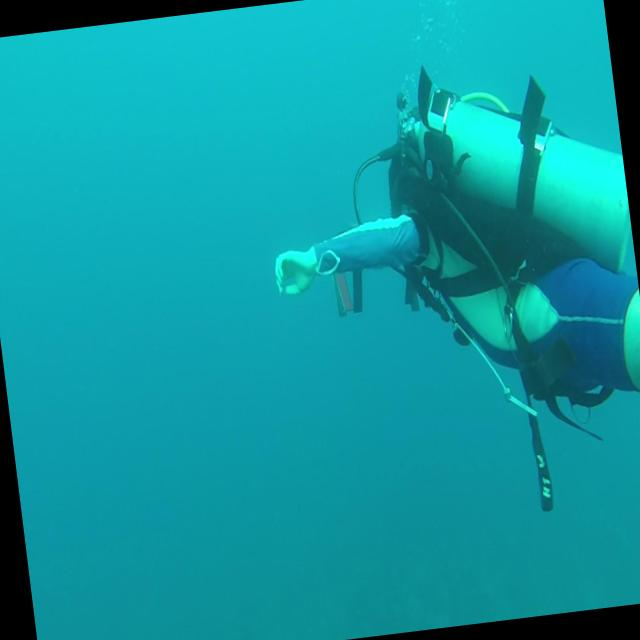human: (251, 44, 640, 539)
